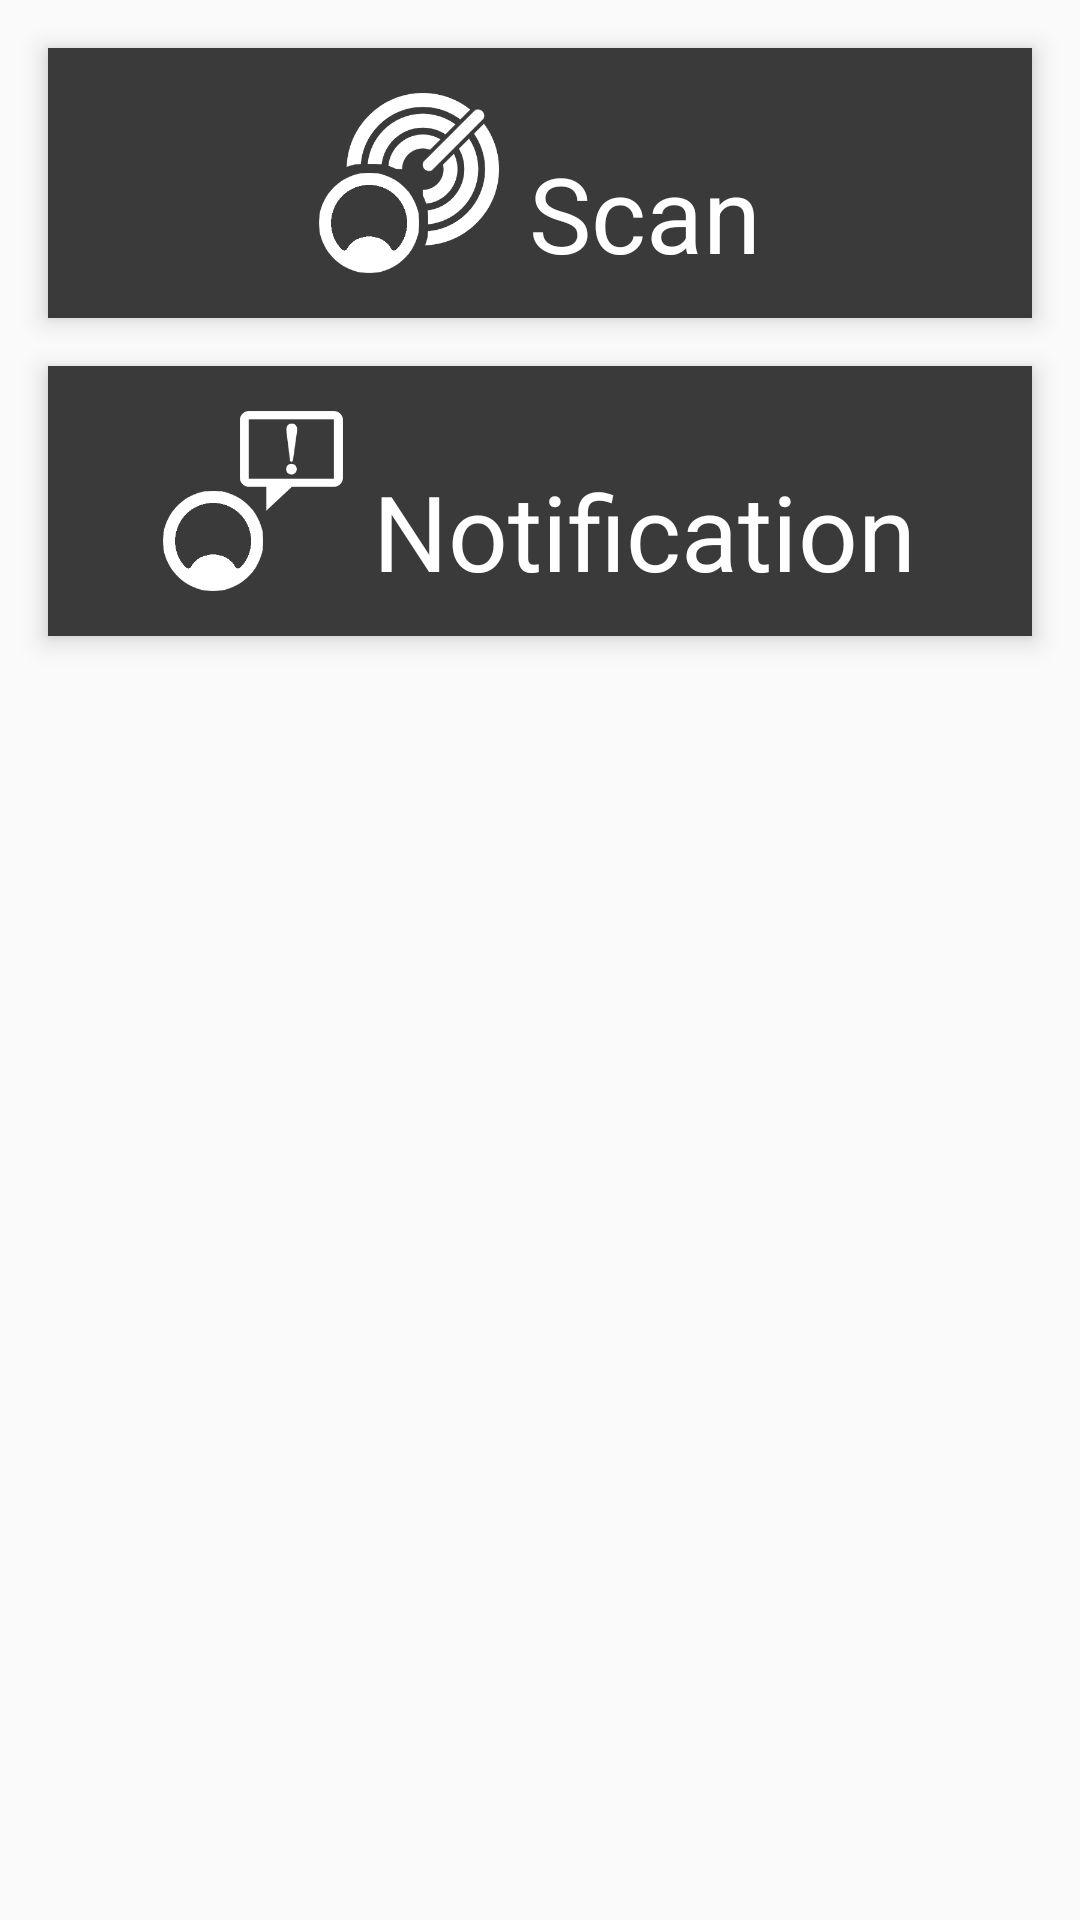

Named icons in this screenshot (1080 × 1920) and their centers, [x,y]:
proximity: [409,183]
